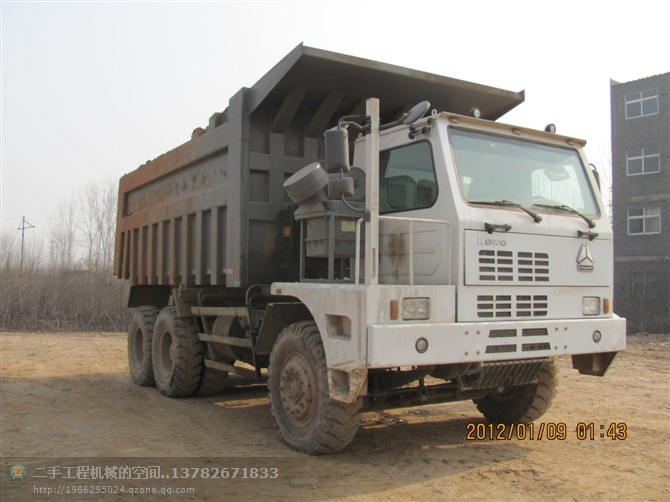truck: (97, 96, 602, 406)
